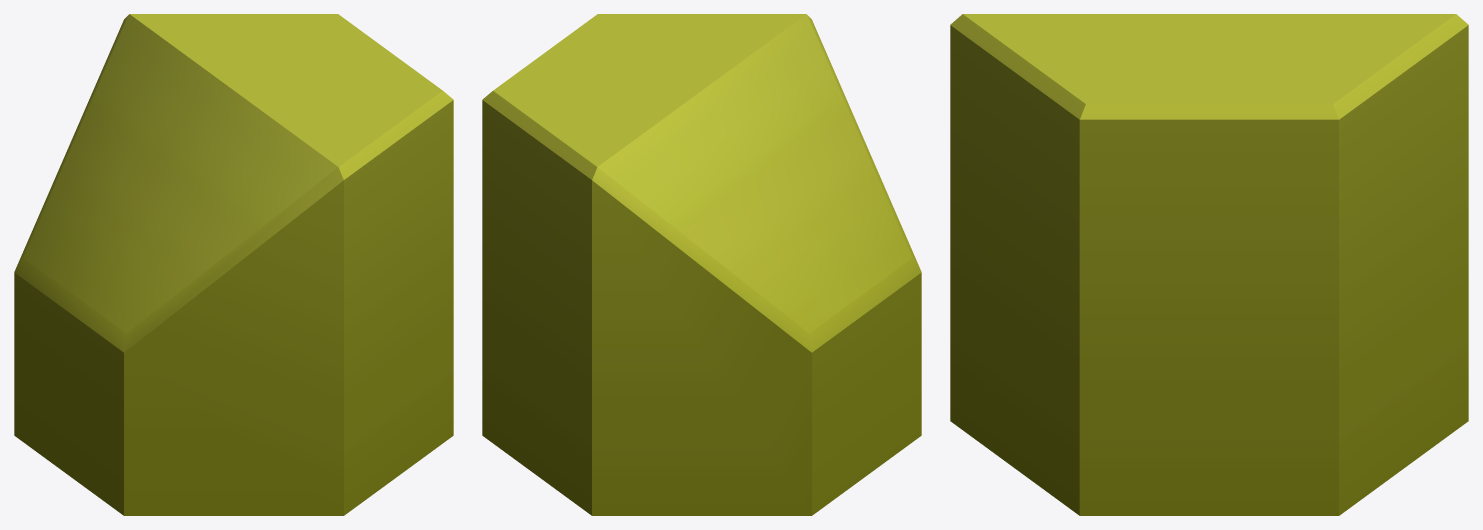
The model's file is hex_grass_sloped_high.glb.
3 views of the same model, side by side, from view 1: azimuth 30°, elevation 25°; view 2: azimuth 150°, elevation 25°; view 3: azimuth 270°, elevation 25° (orthographic). The views are drawn at different scales.
Parts seen in each view (by area): view 1: hex_grass_sloped_high; view 2: hex_grass_sloped_high; view 3: hex_grass_sloped_high.
Boxes of the visible parts, x1=… form: hex_grass_sloped_high: x1=14, y1=14, x2=453, y2=515; hex_grass_sloped_high: x1=482, y1=14, x2=921, y2=515; hex_grass_sloped_high: x1=950, y1=14, x2=1468, y2=515.
Size of the model in its own units: 2 by 2 by 2.31.
Materials: 1 (1 with a texture image).
